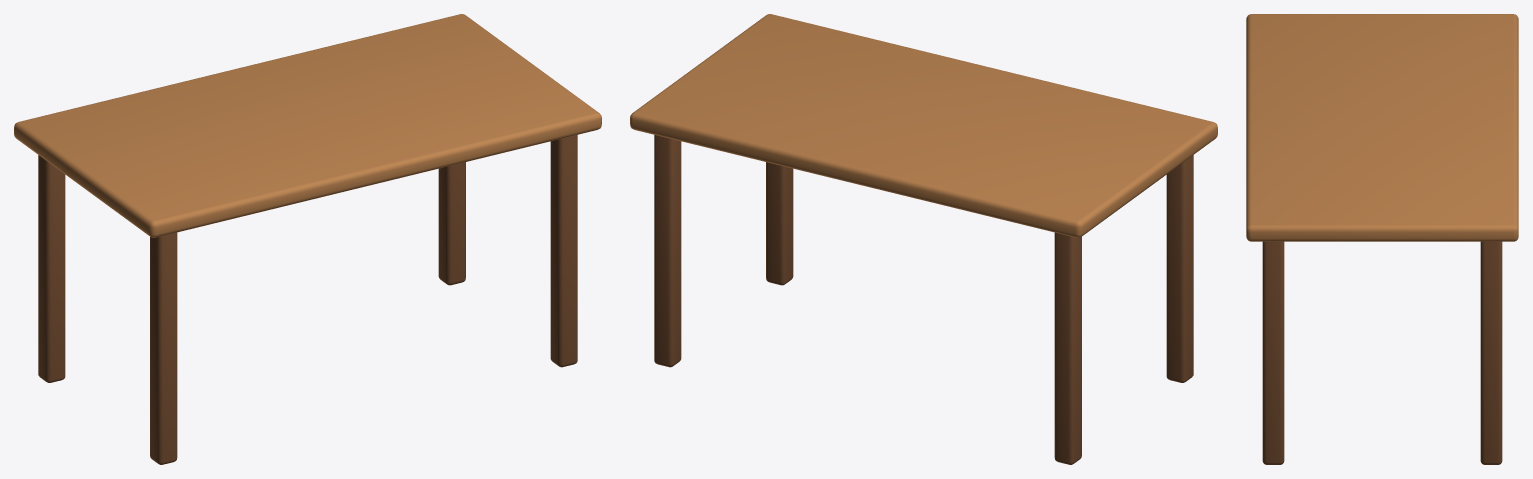
File: mesa.glb
3 views of the same model, side by side, from view 1: azimuth 30°, elevation 25°; view 2: azimuth 150°, elevation 25°; view 3: azimuth 270°, elevation 25° (orthographic). The views are drawn at different scales.
Parts seen in each view (by area): view 1: mesa_tampo, Cube, Cube.002, Cube.001, Cube.003; view 2: mesa_tampo, Cube.001, Cube.003, Cube, Cube.002; view 3: mesa_tampo, Cube.002, Cube.003.
Part boxes in pixels (box(x1,y1,x2,y2)): mesa_tampo: box(14, 14, 601, 237); Cube: box(150, 232, 177, 464); Cube.002: box(550, 135, 577, 367); Cube.001: box(38, 155, 65, 382); Cube.003: box(438, 162, 465, 285); mesa_tampo: box(630, 14, 1217, 237); Cube.001: box(1054, 232, 1081, 464); Cube.003: box(654, 135, 681, 367); Cube: box(1166, 155, 1193, 382); Cube.002: box(766, 162, 793, 285); mesa_tampo: box(1246, 14, 1518, 241); Cube.002: box(1262, 241, 1284, 464); Cube.003: box(1480, 241, 1502, 464).
Bounding box in the file's own units: 1.4 × 0.75 × 0.75.
